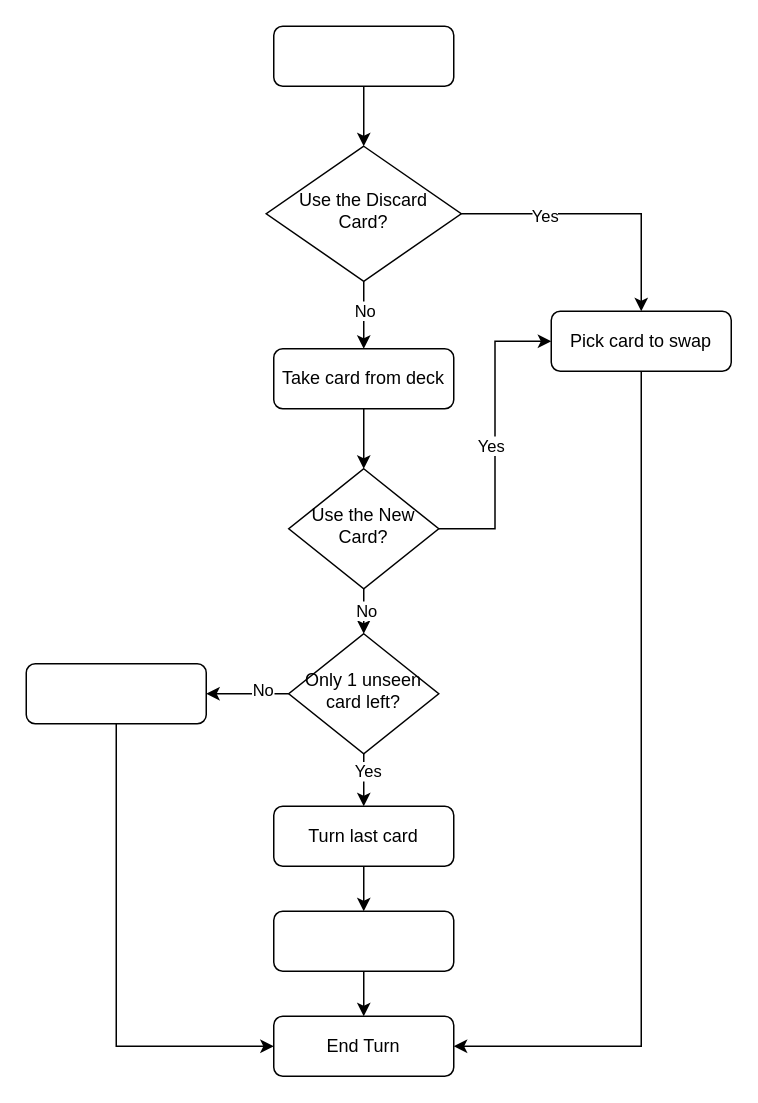
The diagram is 758 pixels wide and 1103 high, and some of its shapes have lost their labels. The shapes that lost their labels are listed below. From the top down, each one's box as (x1, y1, x2, y2) in pixels, then its label:
(272, 25, 454, 86): makeMove()
(25, 662, 206, 724): Pick card to turn
(272, 910, 454, 971): Start Eval. Round
